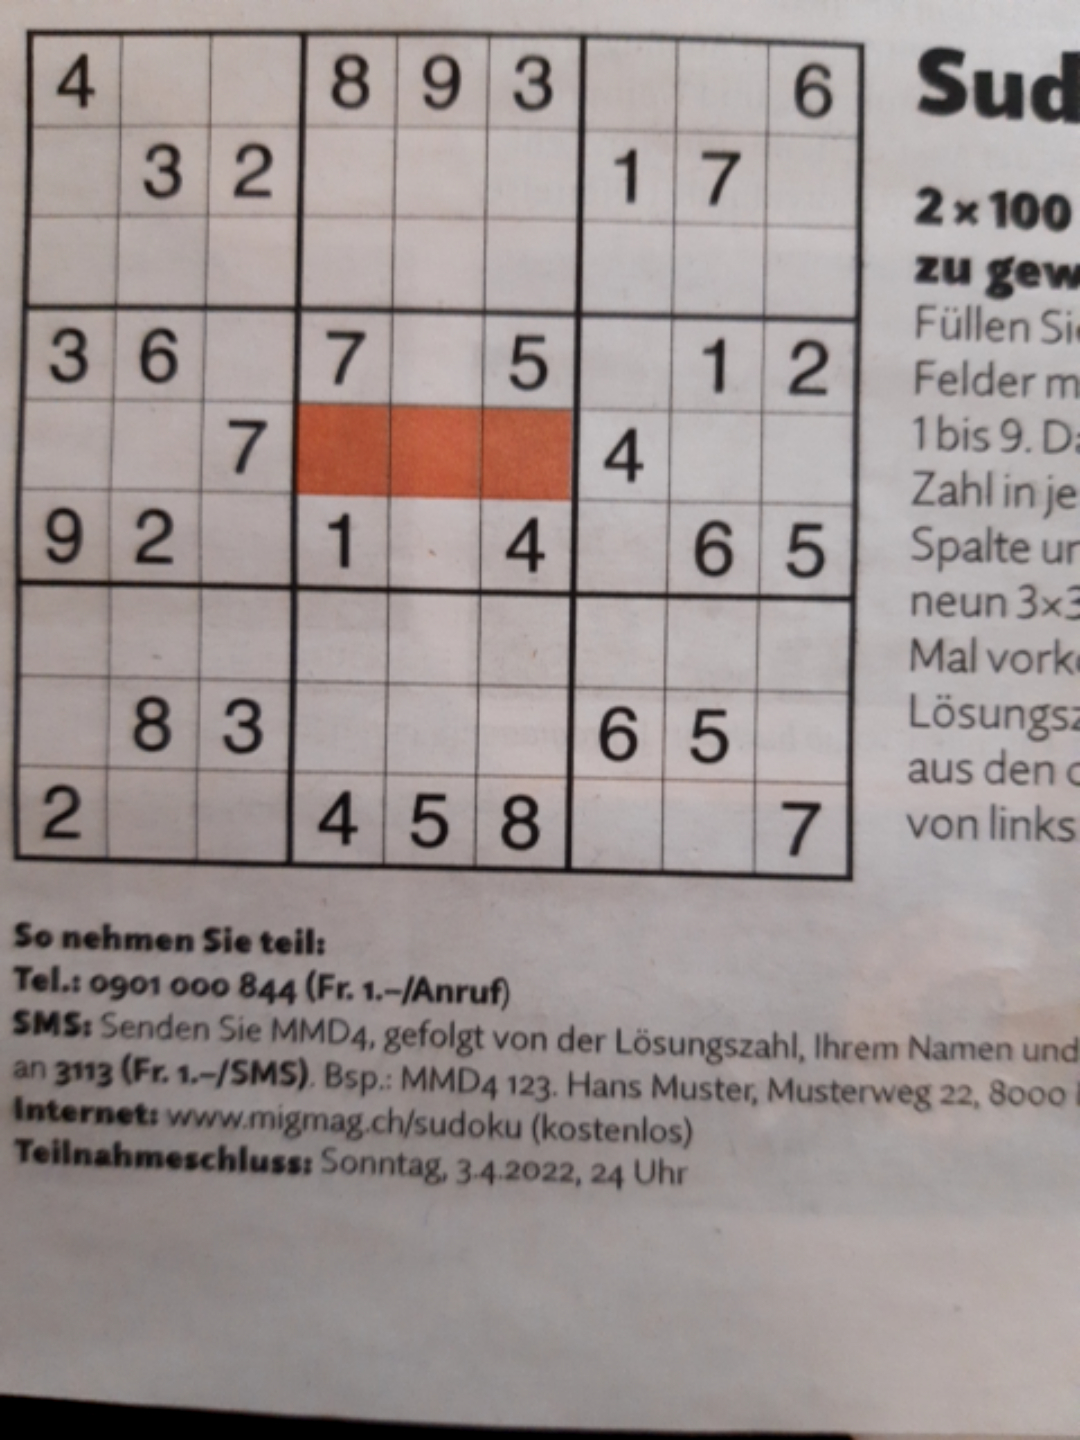sudoku: (12, 19, 873, 887)
